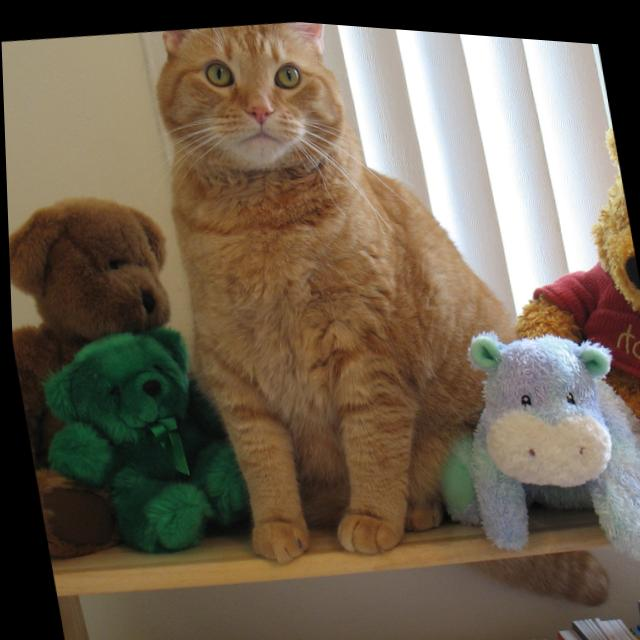animals: (165, 10, 341, 134)
